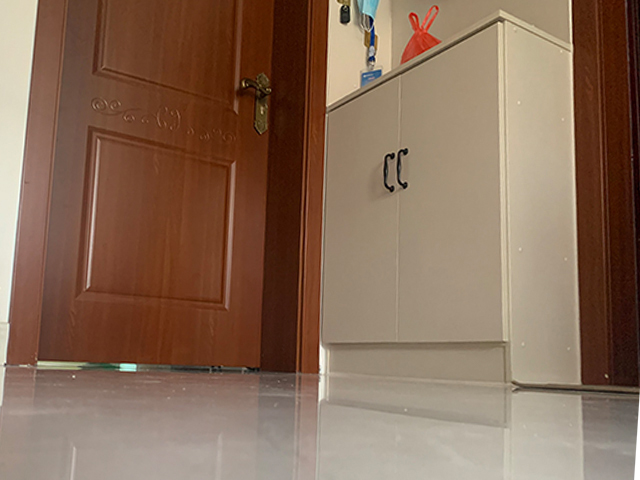cabinet: (320, 9, 582, 387)
carpet: (510, 379, 640, 396)
